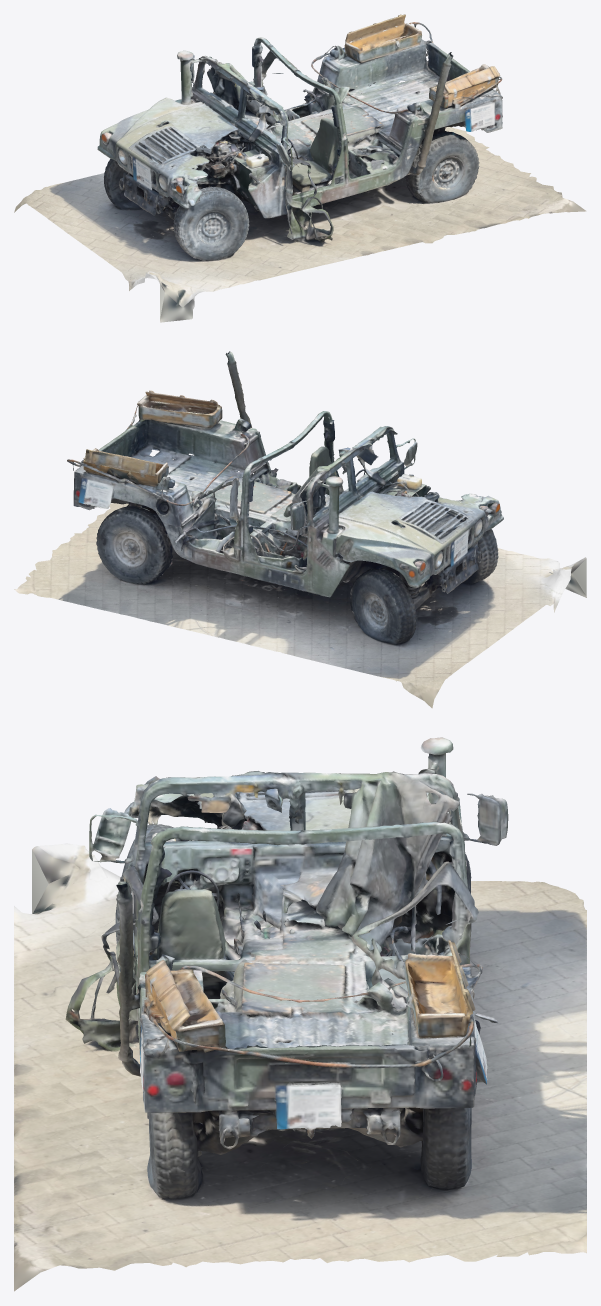
Rendered from destroyed_hmmwv_humvee_m1114_in_ukraine.glb.
3 views of the same model, one above another, from view 1: azimuth 30°, elevation 25°; view 2: azimuth 150°, elevation 25°; view 3: azimuth 270°, elevation 25° (orthographic). The views are drawn at different scales.
Visible parts, largest first — view 1: Object_2, Object_3; view 2: Object_2, Object_3; view 3: Object_2, Object_3.
Boxes of the visible parts, <box> form: Object_2: <box>14,14,572,307</box>; Object_3: <box>22,25,586,322</box>; Object_2: <box>14,351,581,708</box>; Object_3: <box>17,353,586,700</box>; Object_2: <box>14,737,586,1272</box>; Object_3: <box>14,765,586,1291</box>.
Bounding box in the file's own units: 5.48 × 2.17 × 3.39.
Materials: 1 (1 with a texture image).
